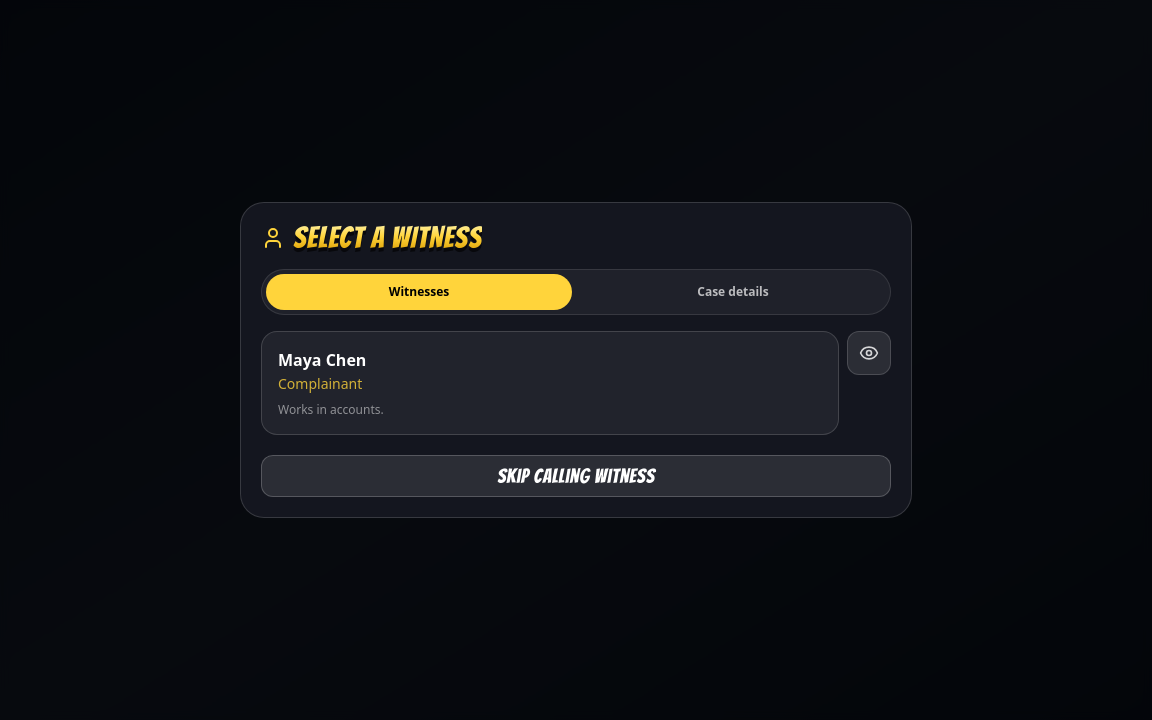
Test: case details inside the trial pop-ups › the eye on a witness shows their background and written testimony, and Back returns
Step 1. Click the button named "View Maya Chen" → [869, 353], box [847,331,891,375]
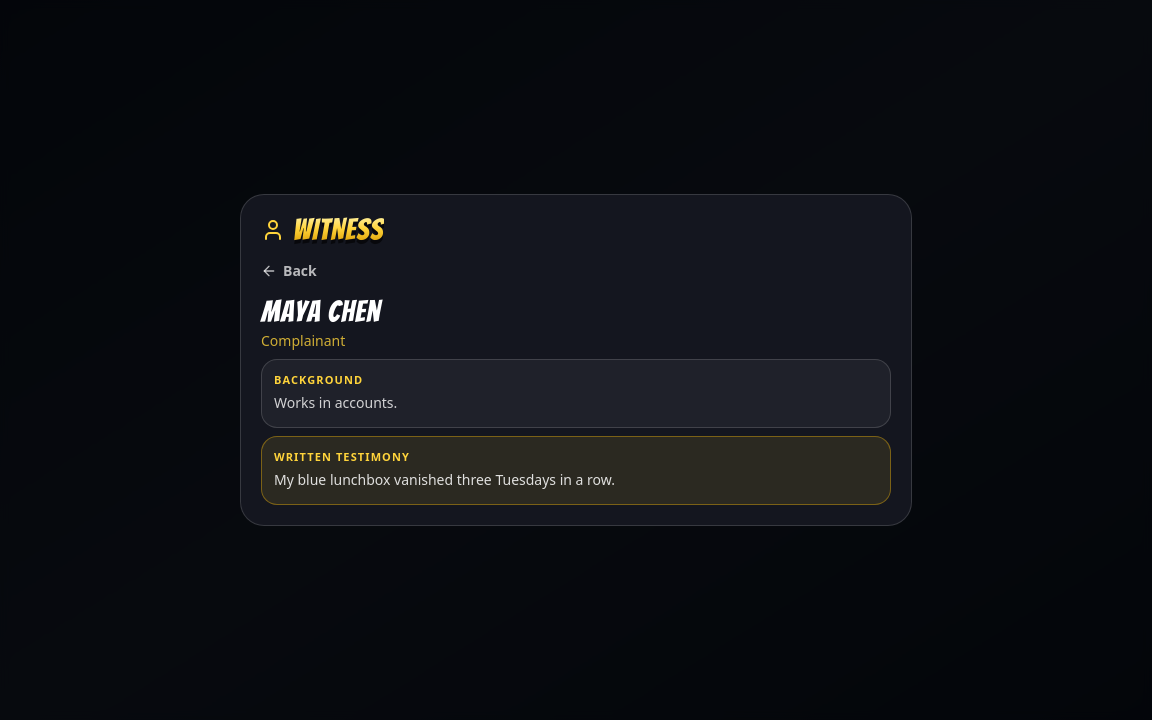
Check: the text "Works in accounts." is shown, box [274,393,397,412]
Check: the text "My blue lunchbox vanished three Tuesdays in a row." is shown, box [274,470,615,489]
Step 2. Click the button "Back" → [289, 271], box [261,261,317,281]
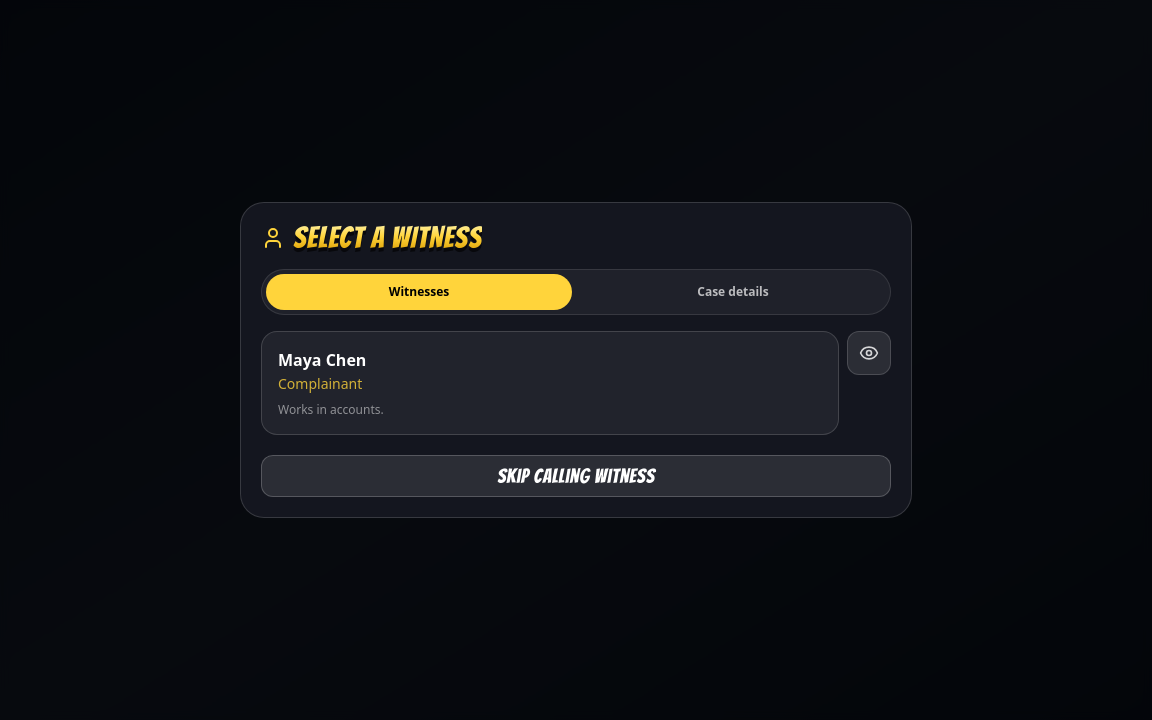
Check: the heading "SELECT A WITNESS" is shown, box [293,223,482,253]
